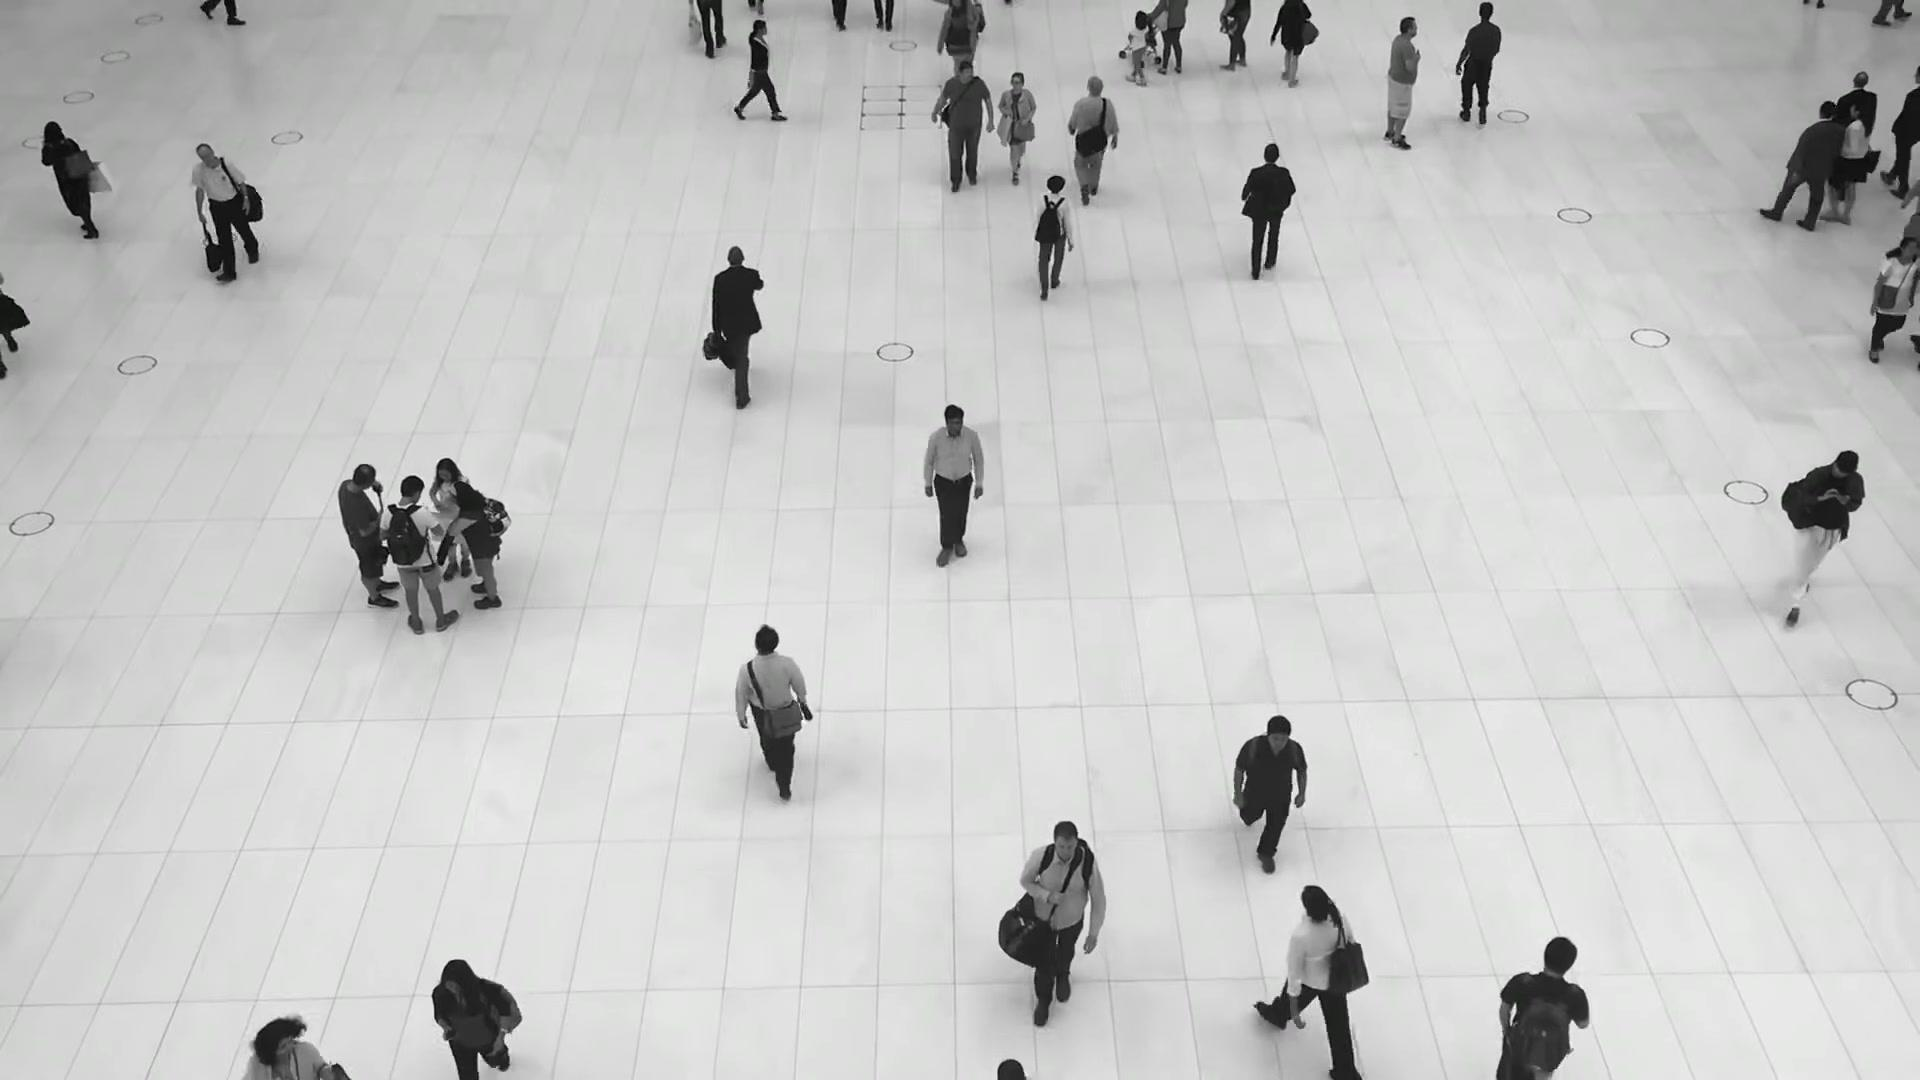person: (1252, 883, 1363, 1080), (1018, 821, 1106, 1041), (1781, 449, 1864, 624), (1494, 938, 1590, 1080), (378, 475, 460, 636), (1227, 711, 1308, 863), (733, 625, 808, 790), (919, 404, 986, 577), (1758, 103, 1843, 236), (430, 955, 511, 1078), (190, 142, 259, 282), (336, 464, 400, 608), (710, 245, 765, 407), (931, 61, 993, 197), (1807, 103, 1872, 229), (1241, 145, 1297, 286), (39, 118, 100, 240), (1863, 236, 1919, 363), (1066, 74, 1120, 202), (449, 481, 501, 610), (1455, 2, 1503, 127), (1030, 173, 1075, 296), (427, 457, 470, 580), (1383, 15, 1421, 149), (736, 16, 780, 122), (996, 70, 1036, 183), (1268, 0, 1310, 91), (1127, 11, 1149, 87)
